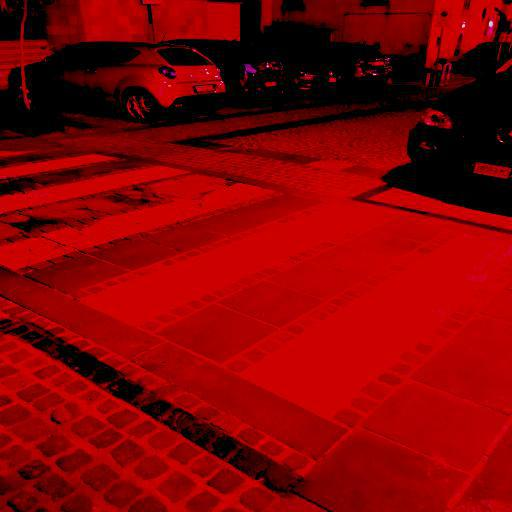crosswalk: (1, 141, 391, 348)
